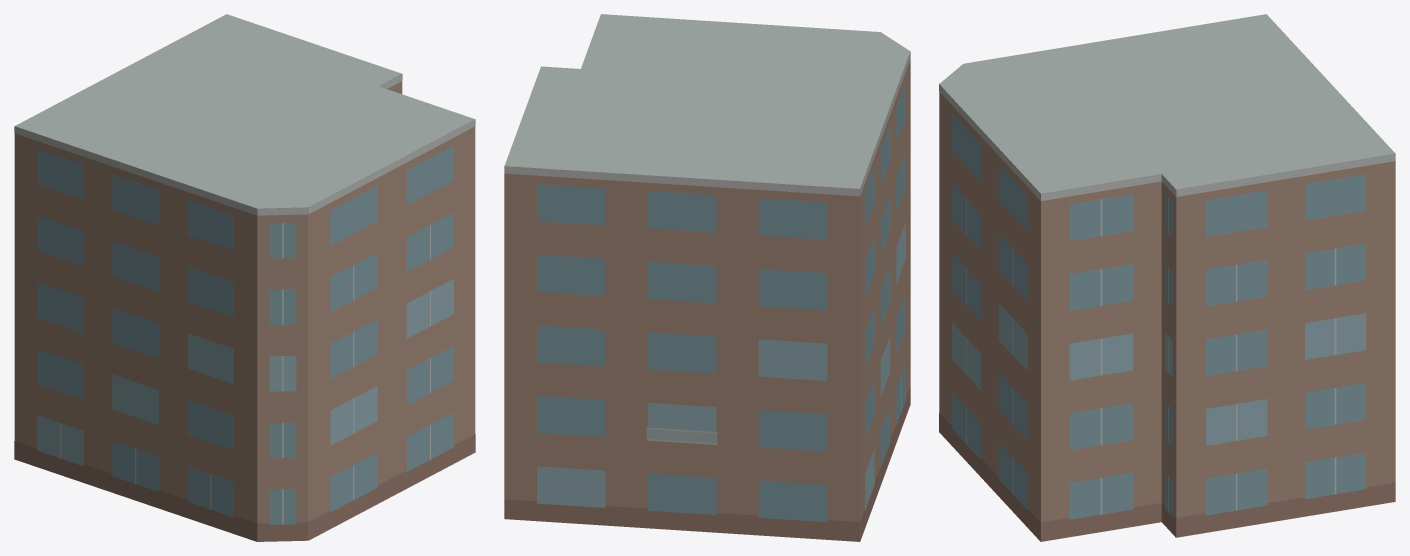
File: survey-upis-32863647.glb
3 renders of one model, left to right at view 1: azimuth 30°, elevation 25°; view 2: azimuth 150°, elevation 25°; view 3: azimuth 270°, elevation 25°, orthographic. The views are drawn at different scales.
Parts seen in each view (by area): view 1: survey-upis-32863647.tmp; view 2: survey-upis-32863647.tmp; view 3: survey-upis-32863647.tmp.
Boxes of the visible parts, x1,y1,x2,y2 form: survey-upis-32863647.tmp: [14, 14, 475, 541]; survey-upis-32863647.tmp: [504, 14, 910, 541]; survey-upis-32863647.tmp: [939, 14, 1395, 541].
Size of the model in its own units: 12.75 by 11.5 by 13.68.
